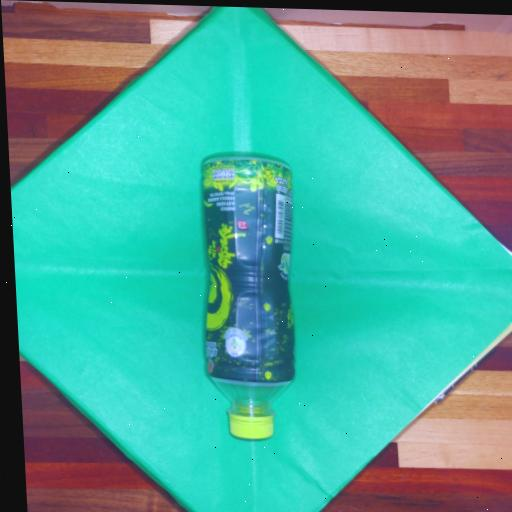bottle: (202, 157, 293, 438)
